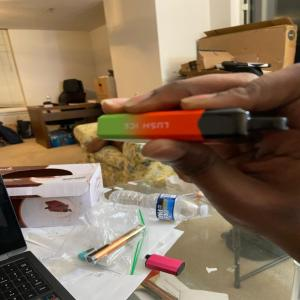Swift-E-Ciggirate: (92, 109, 294, 145)
